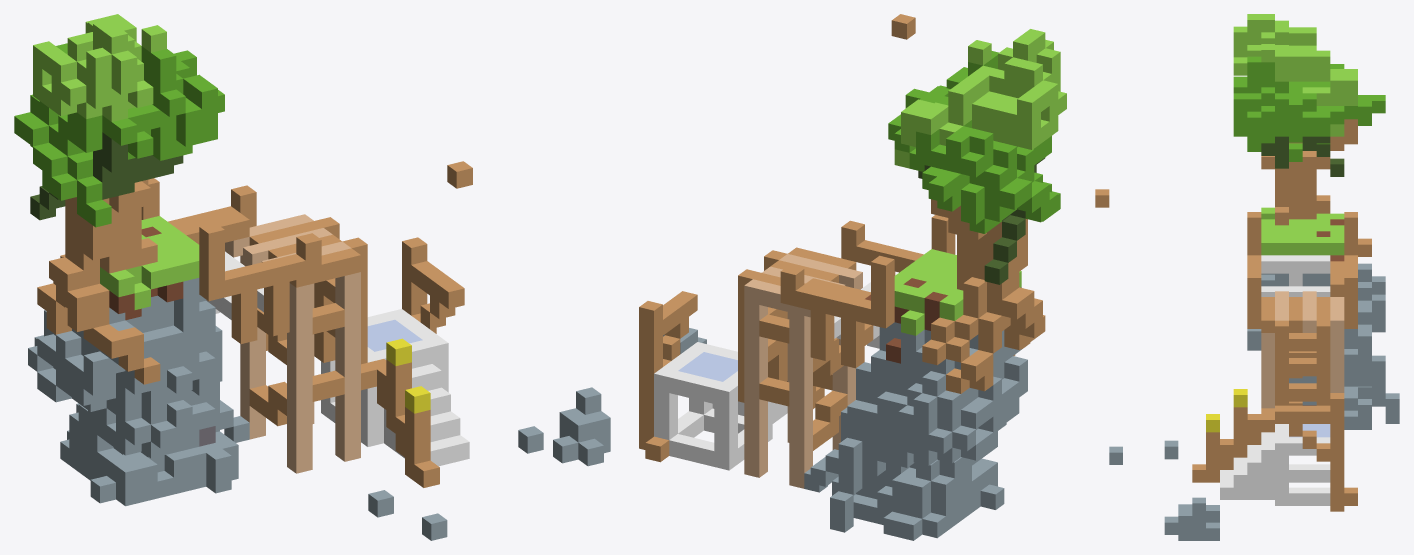
Rendered from pristoni+derevo.gltf.
3 renders of one model, left to right at view 1: azimuth 30°, elevation 25°; view 2: azimuth 150°, elevation 25°; view 3: azimuth 270°, elevation 25°, orthographic. The views are drawn at different scales.
Visible parts, largest first — view 1: Layer.1; view 2: Layer.1; view 3: Layer.1.
Part boxes in pixels (x1,y1,x2,y2): Layer.1: [14, 14, 610, 540]; Layer.1: [639, 14, 1066, 540]; Layer.1: [1095, 14, 1399, 540].
Size of the model in its own units: 30 by 29 by 22.
Materials: 1 (1 with a texture image).
